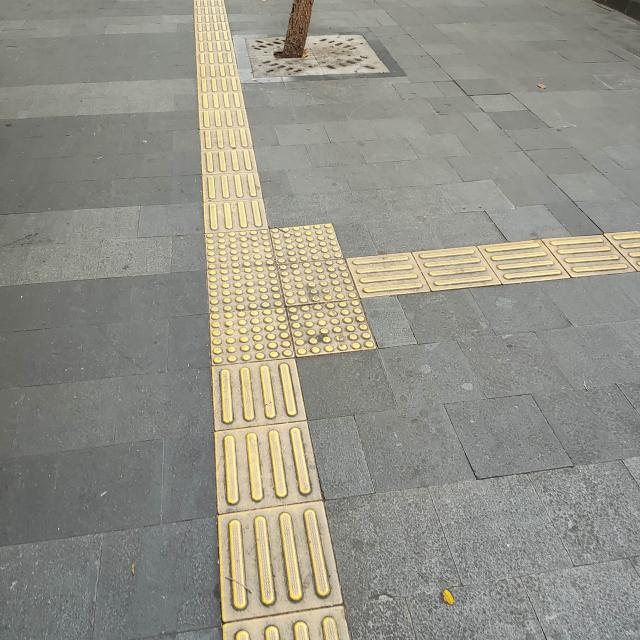lurus: (196, 367, 370, 640), (169, 0, 274, 214)
